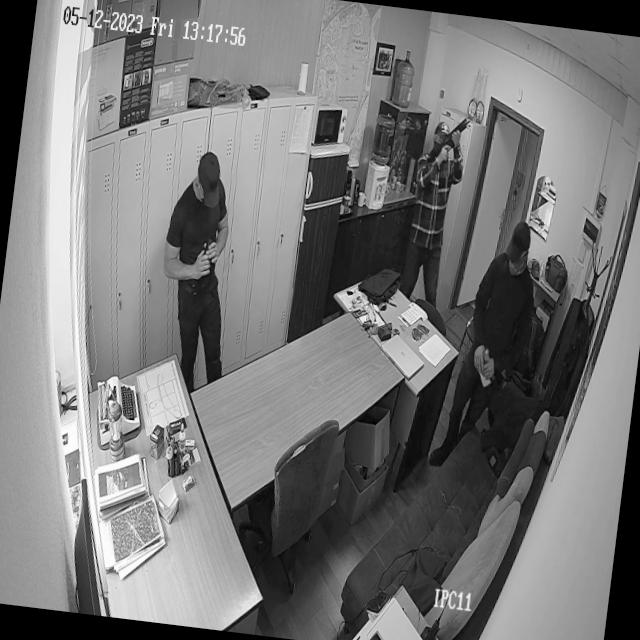gun: (426, 114, 471, 170)
person: (426, 214, 544, 478), (147, 146, 252, 395)
person with a gun: (398, 110, 474, 310)
